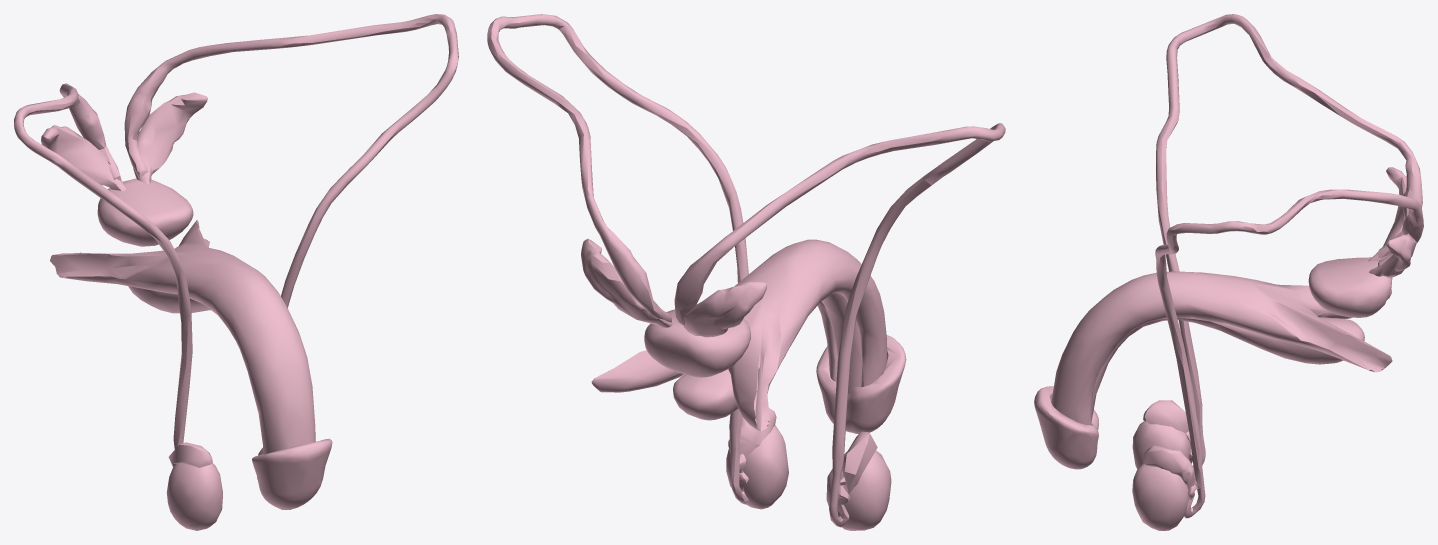
The model's file is reproductive.glb.
3 views of the same model, side by side, from view 1: azimuth 30°, elevation 25°; view 2: azimuth 150°, elevation 25°; view 3: azimuth 270°, elevation 25° (orthographic). The views are drawn at different scales.
Visible parts, largest first — view 1: FMA19618_Corpus_cavernosum_of_penis, FMA19236_Left_deferent_duct, FMA19235_Right_deferent_duct, FMA9600_Prostate, FMA18247_Glans_penis, FMA7211_Right_testis, FMA19388_Left_seminal_vesicle, FMA19387_Right_seminal_vesicle, FMA19617_Corpus_spongiosum_of_penis, FMA18256_Right_epididymis; view 2: FMA19618_Corpus_cavernosum_of_penis, FMA19235_Right_deferent_duct, FMA19236_Left_deferent_duct, FMA9600_Prostate, FMA19617_Corpus_spongiosum_of_penis, FMA18247_Glans_penis, FMA7212_Left_testis, FMA19387_Right_seminal_vesicle, FMA7211_Right_testis, FMA19388_Left_seminal_vesicle, FMA18256_Right_epididymis, FMA18257_Left_epididymis; view 3: FMA19618_Corpus_cavernosum_of_penis, FMA19235_Right_deferent_duct, FMA19236_Left_deferent_duct, FMA9600_Prostate, FMA18247_Glans_penis, FMA7212_Left_testis, FMA19617_Corpus_spongiosum_of_penis, FMA7211_Right_testis, FMA18257_Left_epididymis, FMA19388_Left_seminal_vesicle, FMA18256_Right_epididymis, FMA19387_Right_seminal_vesicle.
Part boxes in pixels (<box>): FMA19618_Corpus_cavernosum_of_penis: <box>50,220,315,454</box>; FMA19236_Left_deferent_duct: <box>124,14,458,307</box>; FMA19235_Right_deferent_duct: <box>14,83,192,449</box>; FMA9600_Prostate: <box>97,178,193,246</box>; FMA18247_Glans_penis: <box>252,438,332,509</box>; FMA7211_Right_testis: <box>166,462,222,530</box>; FMA19388_Left_seminal_vesicle: <box>133,92,207,183</box>; FMA19387_Right_seminal_vesicle: <box>41,125,125,190</box>; FMA19617_Corpus_spongiosum_of_penis: <box>128,286,210,313</box>; FMA18256_Right_epididymis: <box>168,442,212,467</box>; FMA19618_Corpus_cavernosum_of_penis: <box>591,239,886,431</box>; FMA19235_Right_deferent_duct: <box>674,123,1005,527</box>; FMA19236_Left_deferent_duct: <box>487,14,748,504</box>; FMA9600_Prostate: <box>644,309,750,377</box>; FMA19617_Corpus_spongiosum_of_penis: <box>673,293,862,420</box>; FMA18247_Glans_penis: <box>816,335,906,434</box>; FMA7212_Left_testis: <box>726,425,788,509</box>; FMA19387_Right_seminal_vesicle: <box>684,281,766,337</box>; FMA7211_Right_testis: <box>826,450,891,530</box>; FMA19388_Left_seminal_vesicle: <box>581,238,674,327</box>; FMA18256_Right_epididymis: <box>842,431,877,493</box>; FMA18257_Left_epididymis: <box>728,408,776,457</box>; FMA19618_Corpus_cavernosum_of_penis: <box>1051,271,1392,425</box>; FMA19235_Right_deferent_duct: <box>1156,14,1422,466</box>; FMA19236_Left_deferent_duct: <box>1155,189,1423,518</box>; FMA9600_Prostate: <box>1308,257,1392,317</box>; FMA18247_Glans_penis: <box>1034,386,1098,469</box>; FMA7212_Left_testis: <box>1132,463,1188,530</box>; FMA19617_Corpus_spongiosum_of_penis: <box>1091,317,1364,423</box>; FMA7211_Right_testis: <box>1132,421,1190,469</box>; FMA18257_Left_epididymis: <box>1142,445,1195,499</box>; FMA19388_Left_seminal_vesicle: <box>1369,233,1416,277</box>; FMA18256_Right_epididymis: <box>1143,400,1188,433</box>; FMA19387_Right_seminal_vesicle: <box>1368,167,1406,261</box>.
Size of the model in its own units: 0.1867 by 0.1712 by 0.1483.
